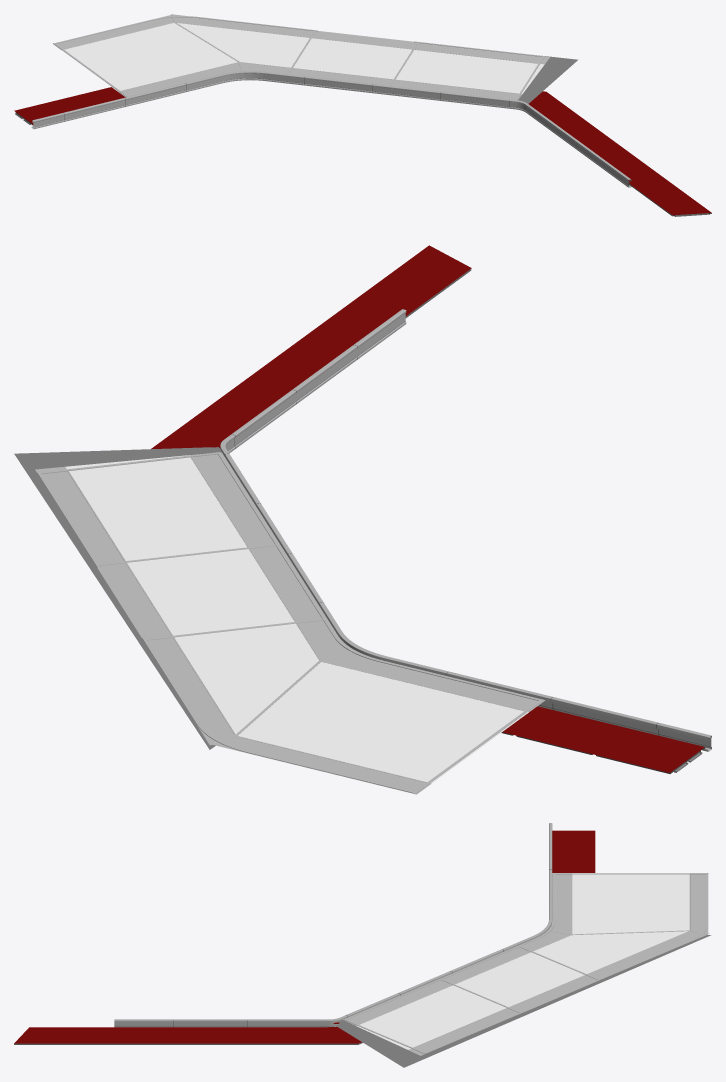
3 views of the same model, one above another, from view 1: azimuth 30°, elevation 25°; view 2: azimuth 150°, elevation 25°; view 3: azimuth 270°, elevation 25° (orthographic). The views are drawn at different scales.
Parts seen in each view (by area): view 1: SM_H_Building_FutureTech_Dock_06c; view 2: SM_H_Building_FutureTech_Dock_06c; view 3: SM_H_Building_FutureTech_Dock_06c.
Part boxes in pixels (bbox=[...]): SM_H_Building_FutureTech_Dock_06c: bbox=[14, 14, 711, 216]; SM_H_Building_FutureTech_Dock_06c: bbox=[14, 245, 711, 794]; SM_H_Building_FutureTech_Dock_06c: bbox=[14, 823, 711, 1067].
Size of the model in its own units: 1704 by 1395 by 22.95.
